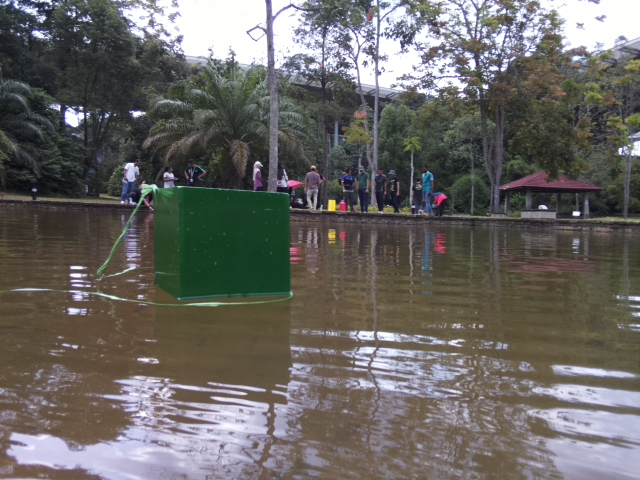obstacle: (153, 186, 292, 301)
